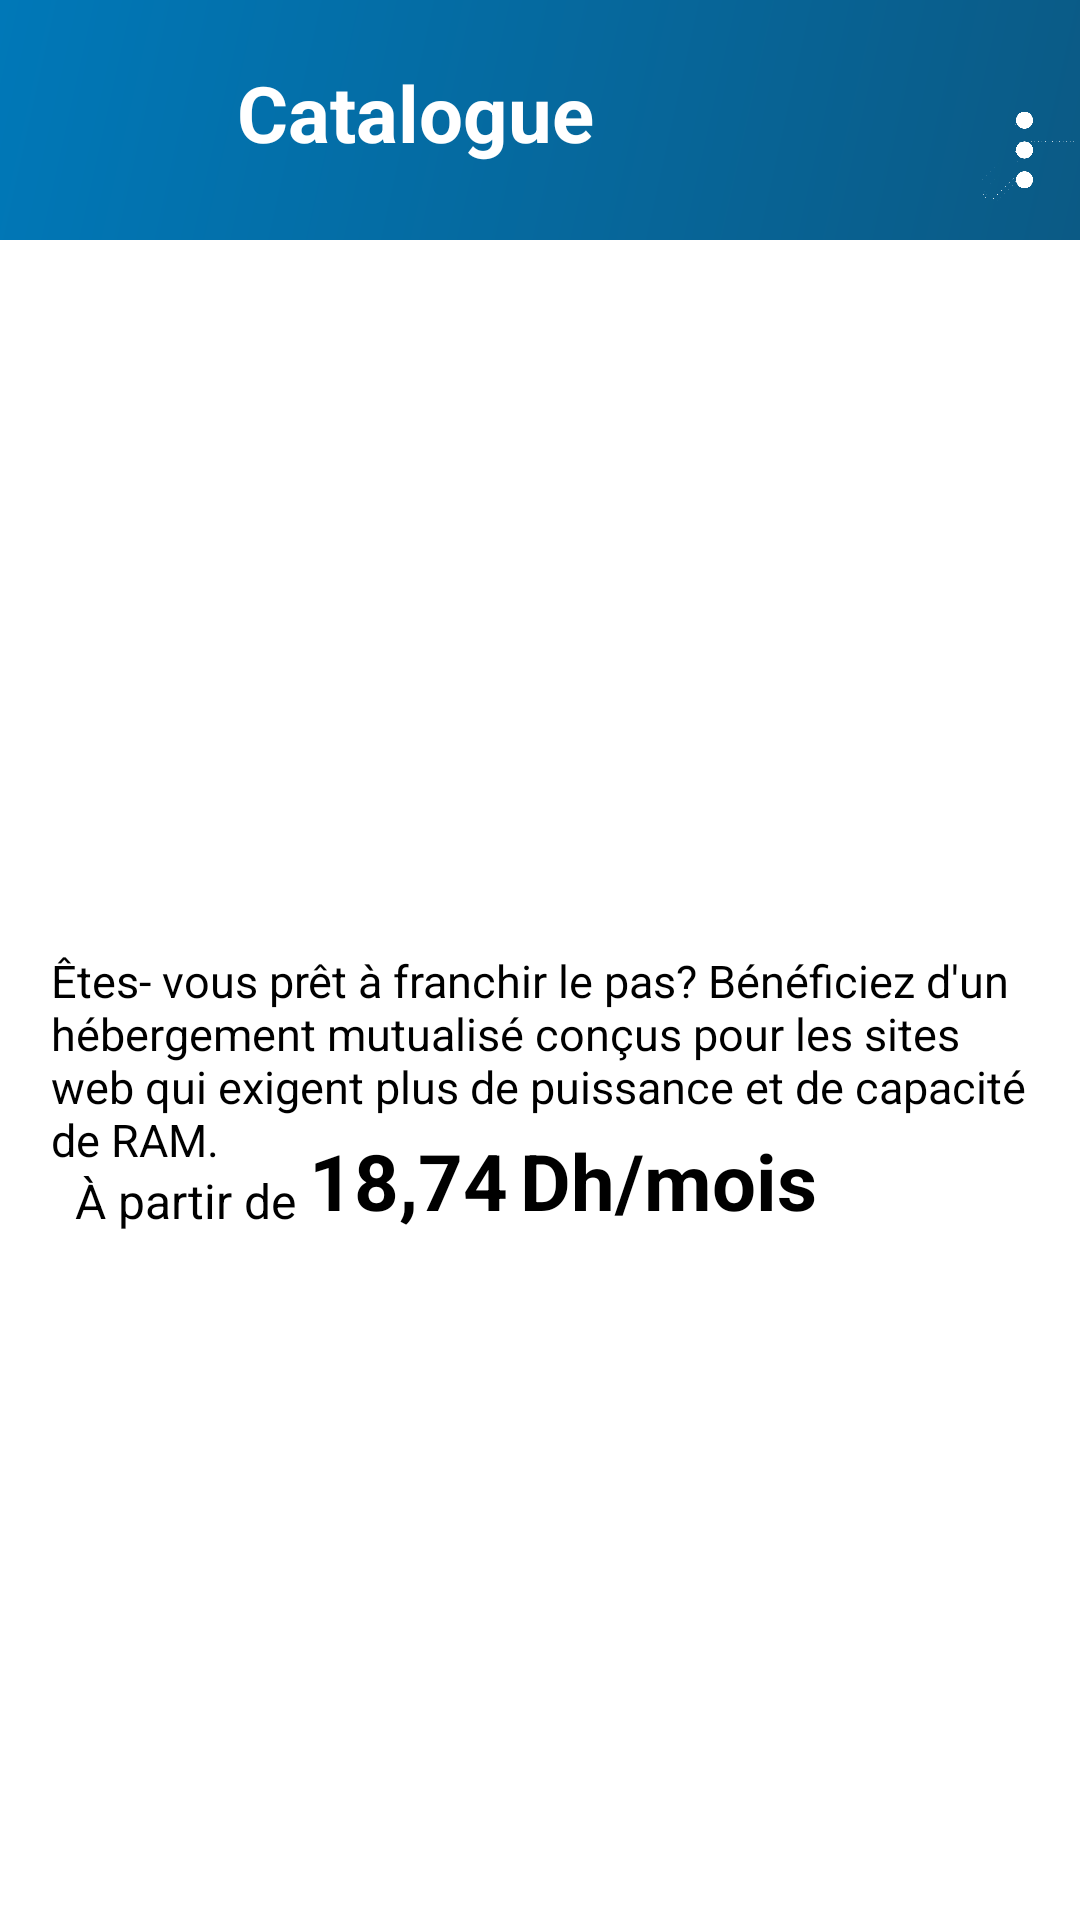

Icon bounding boxes for this 1080x1920 phone screenshot, format BBox(x1, y1, x2, y2):
settings menu: BBox(982, 112, 1074, 199)
